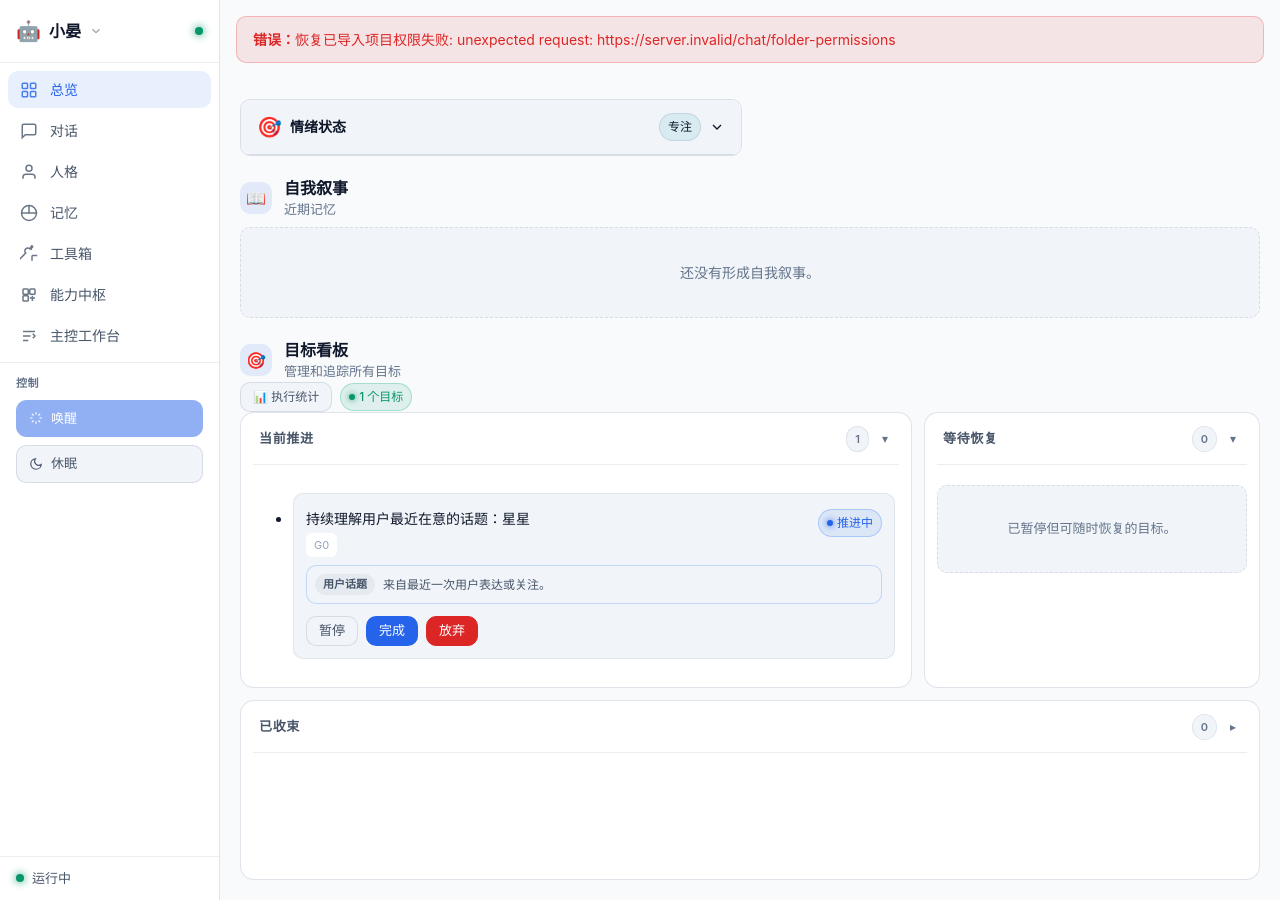
updates a goal status from the app and refreshes the rendered goal
(page scrolled)
Expected: the text "推进中" is shown, [818,509,882,537]
Click the button "暂停".
click(332, 631)  # box [306,616,358,646]
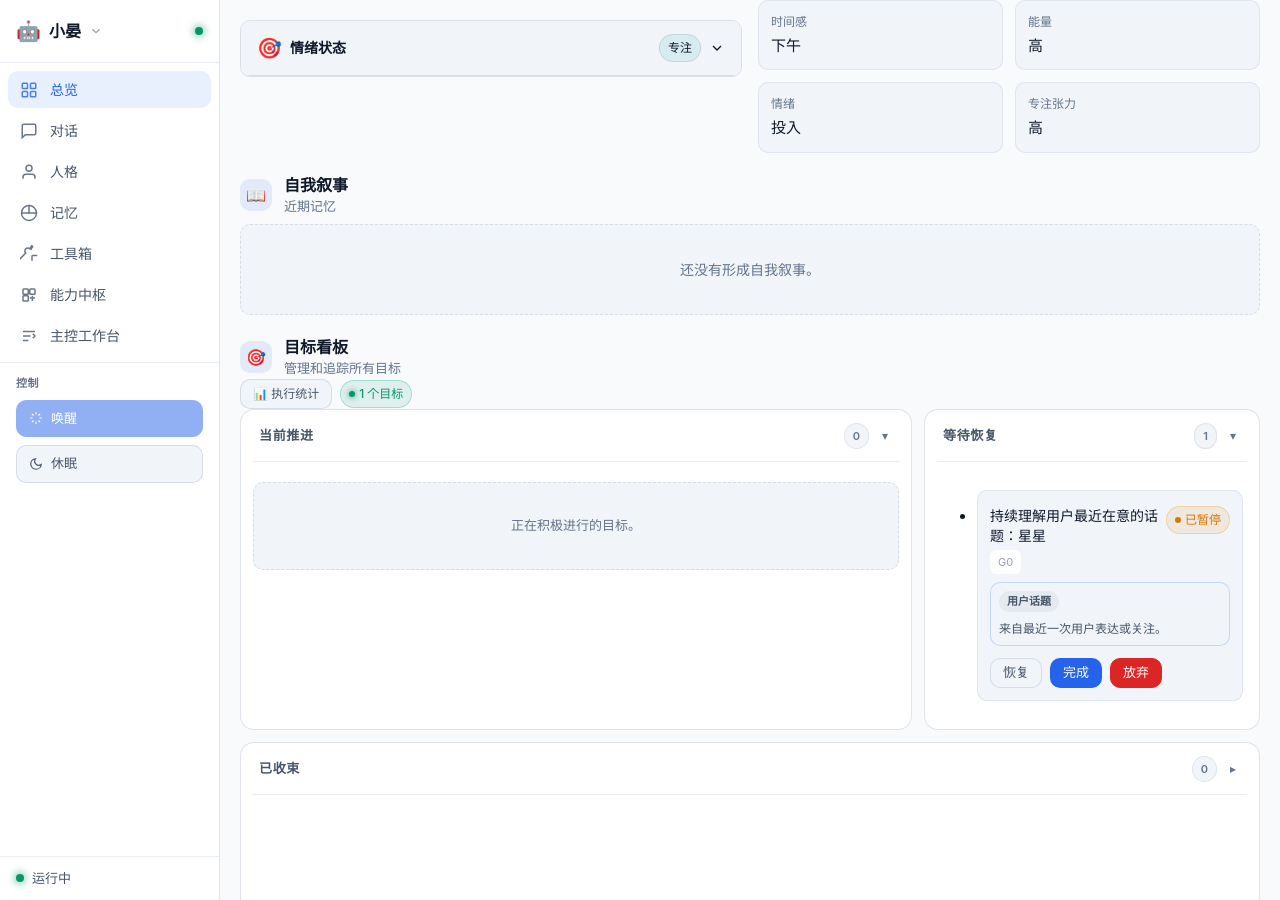
Now the text "已暂停" is shown, box [1166,506,1230,534]
Now the button "恢复" is shown, box [990,658,1042,688]
